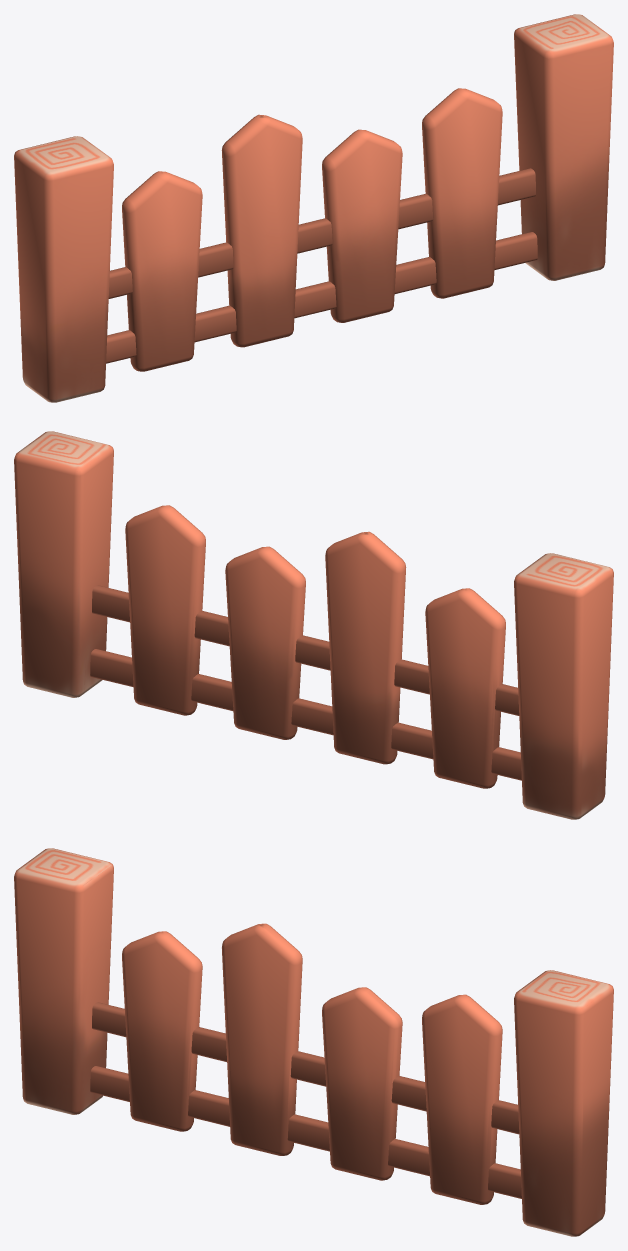
The model's file is wooden fence.fbx.
The picture shows the model from 3 angles, top to bottom: view 1: azimuth 30°, elevation 25°; view 2: azimuth 150°, elevation 25°; view 3: azimuth 330°, elevation 25°; orthographic projection.
Visible parts, largest first — view 1: Cube; view 2: Cube; view 3: Cube.
Part boxes in pixels (x1,y1,x2,y2): Cube: (14, 14, 613, 402); Cube: (14, 431, 613, 819); Cube: (14, 848, 613, 1236).
Size of the model in its own units: 446 by 176 by 49.36.
2 materials, 1 textured.
